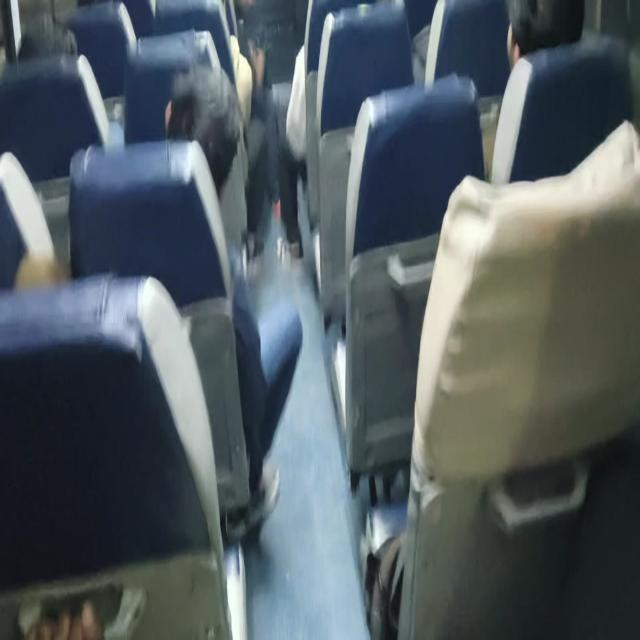person: (164, 60, 303, 540), (490, 0, 586, 183), (164, 62, 242, 197), (505, 0, 585, 71)
